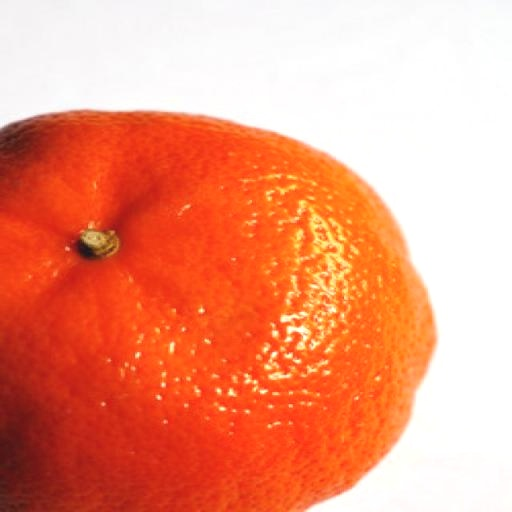fruit: (0, 112, 434, 511)
